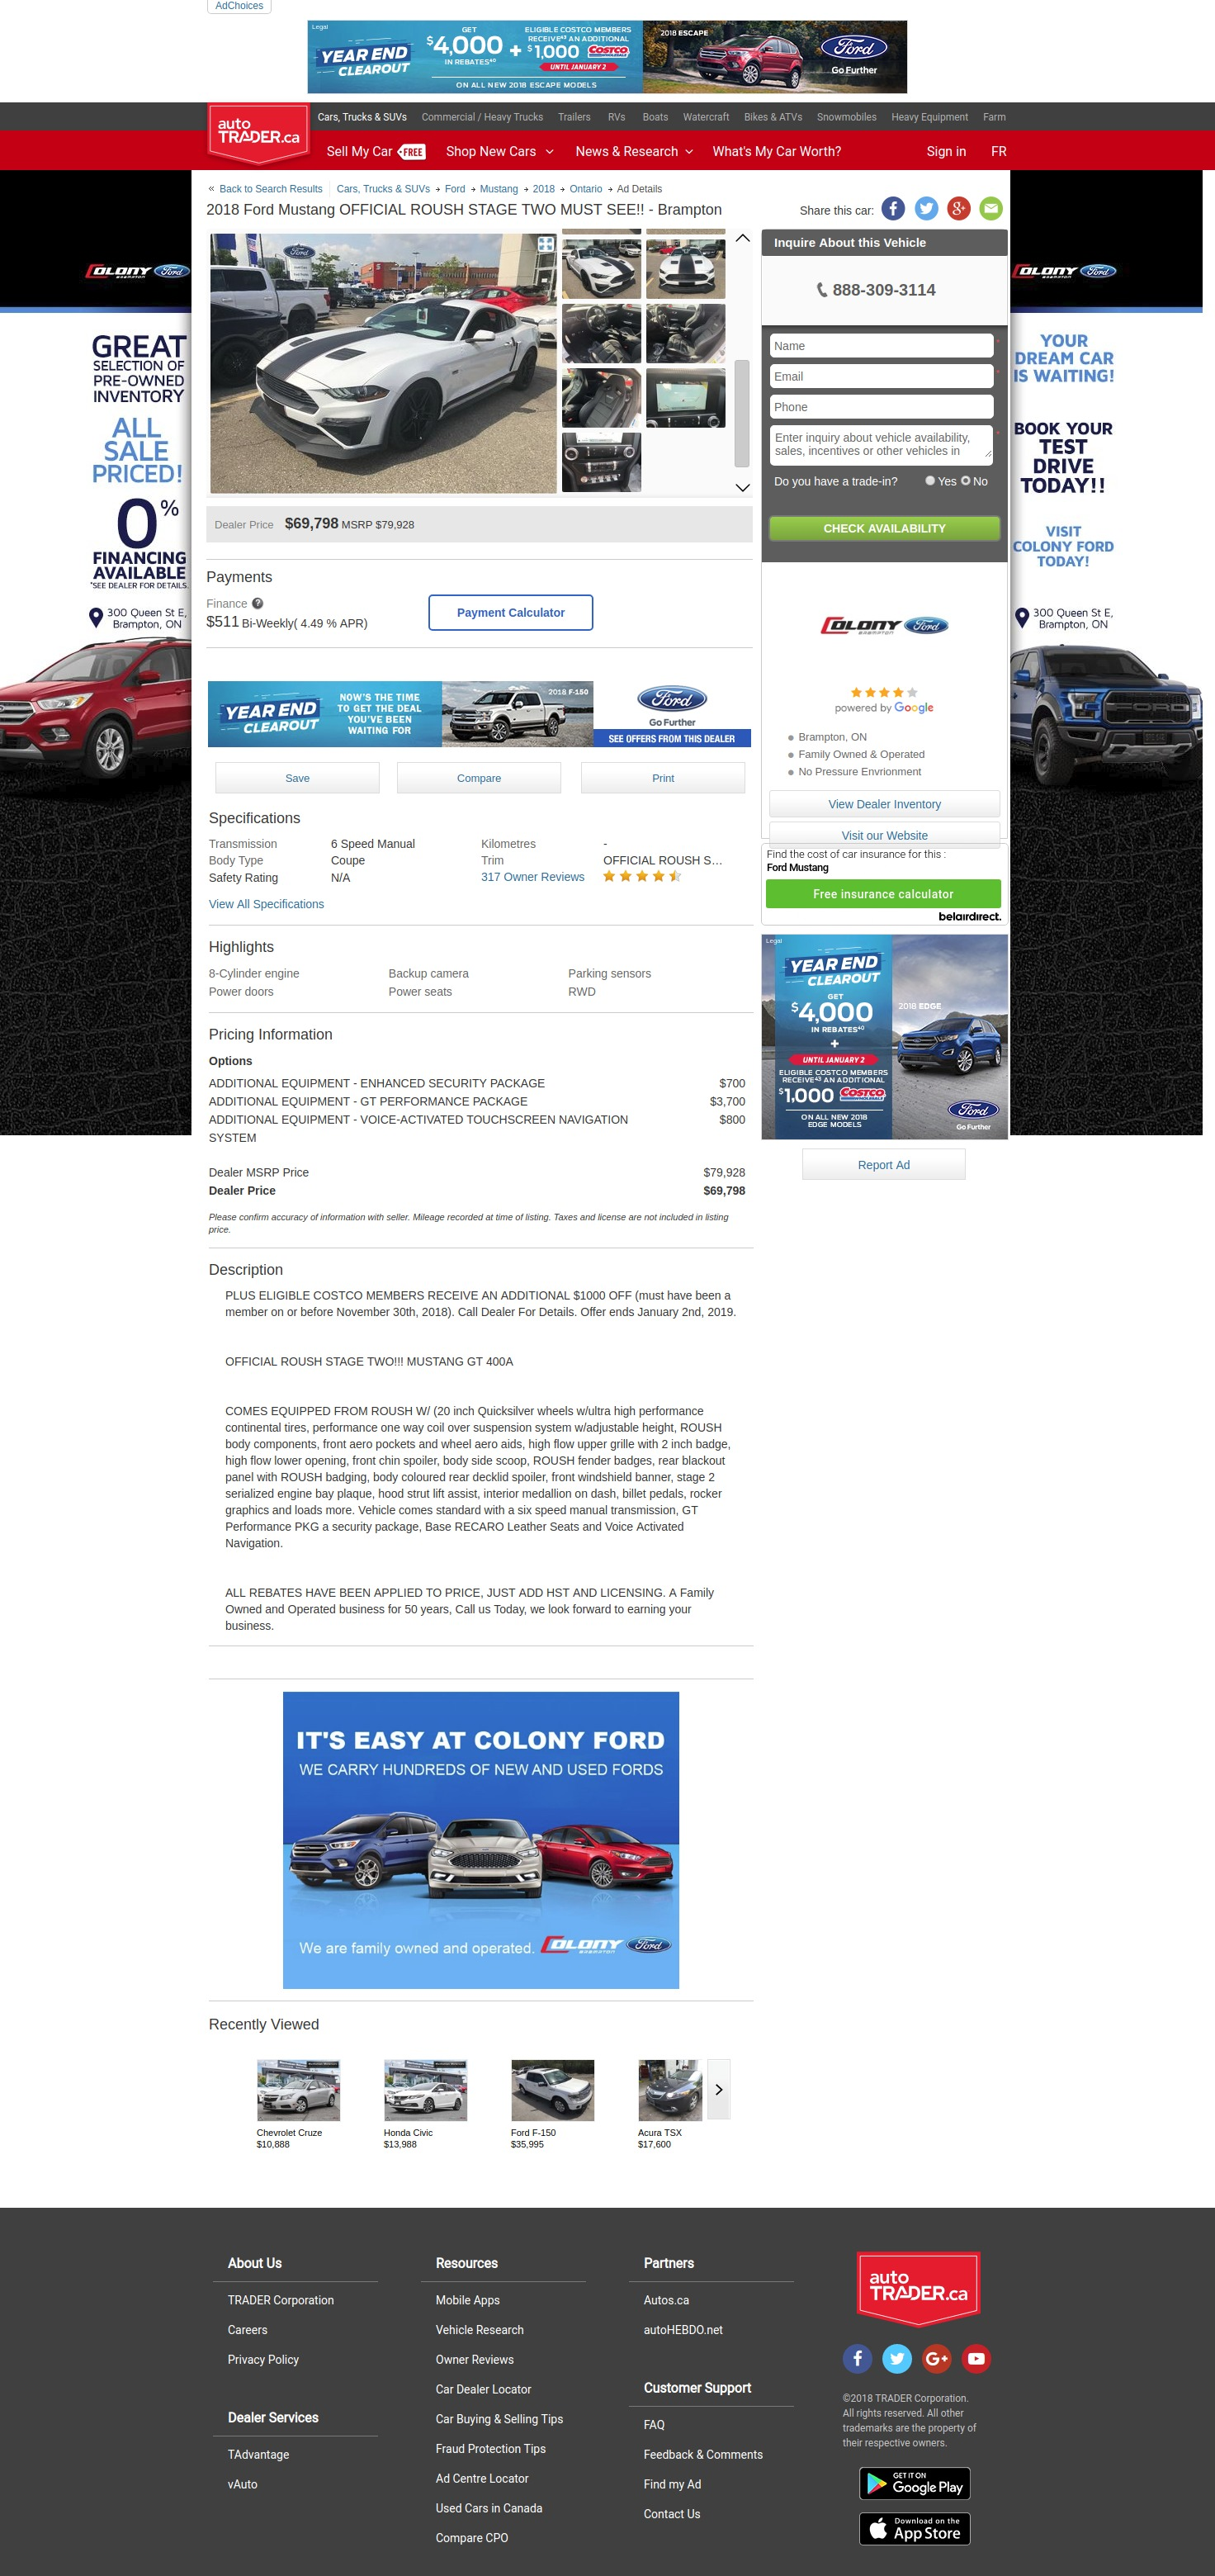car: (736, 483, 752, 494)
